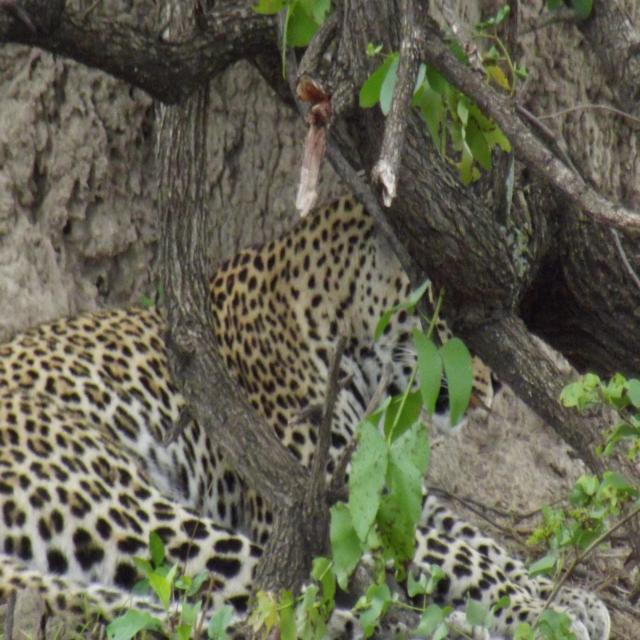Leopard: (0, 66, 638, 640)
